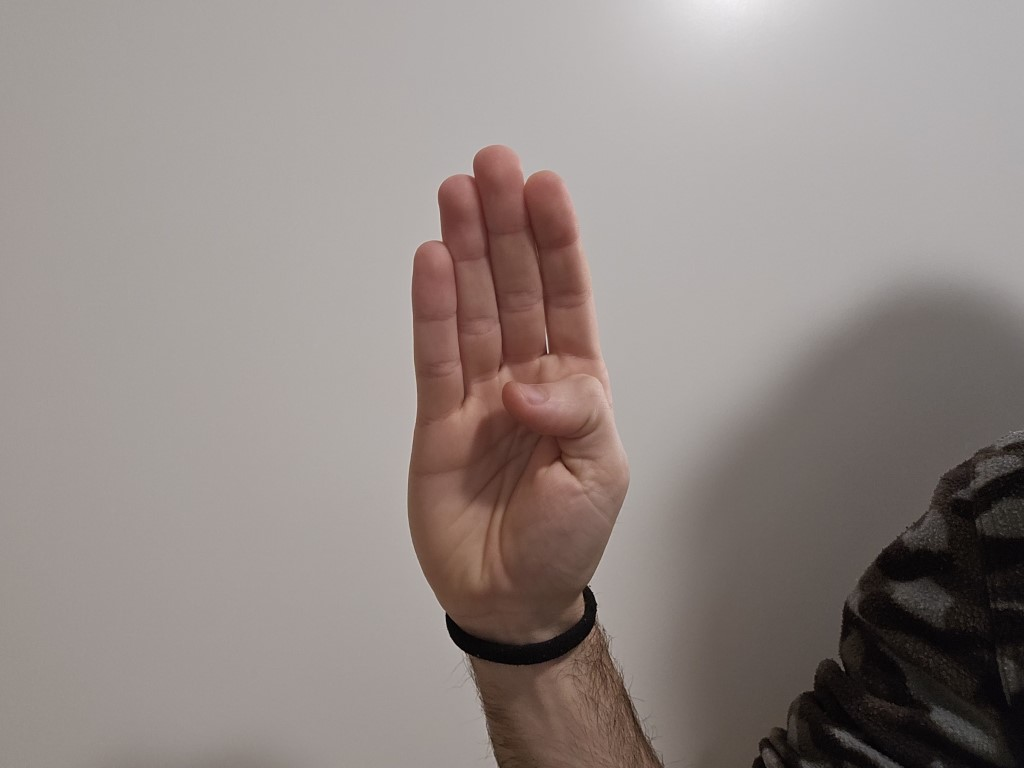b: (370, 147, 646, 603)
